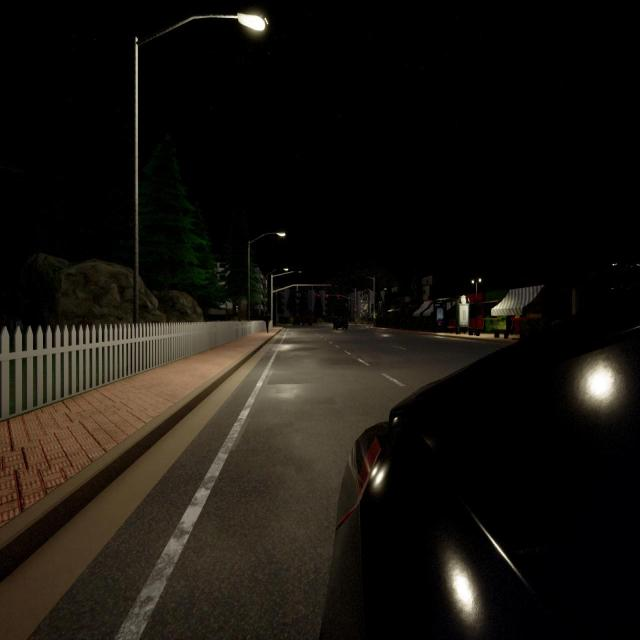Pedestrian: (264, 309, 270, 333)
Vehicle: (320, 323, 640, 640), (332, 317, 348, 330), (302, 315, 313, 326), (293, 317, 300, 326)
traffic_light: (296, 285, 298, 291), (354, 309, 356, 314), (337, 294, 339, 299), (318, 294, 320, 298), (326, 294, 328, 298)
